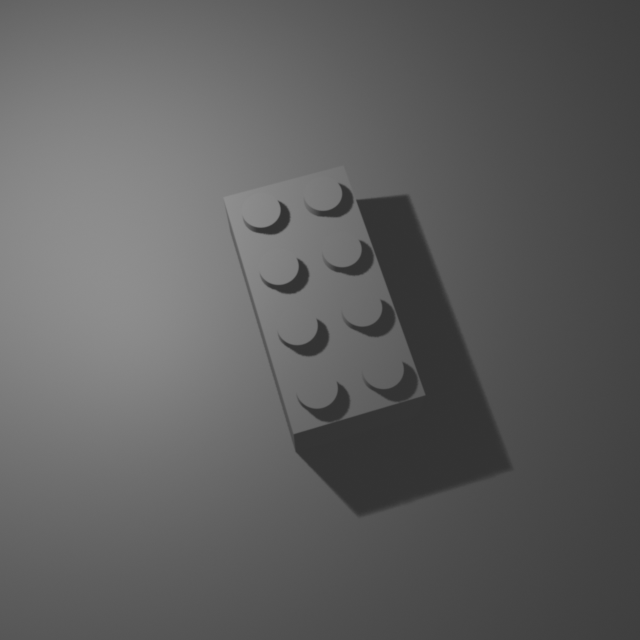lego_2x4: (222, 159, 427, 452)
